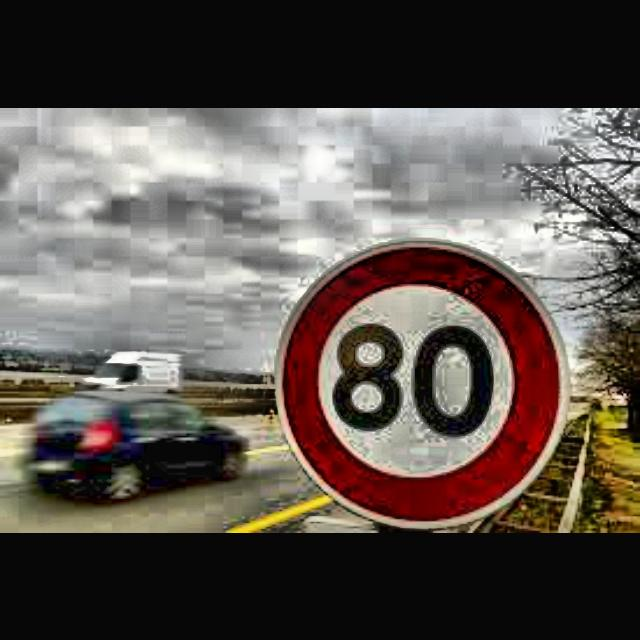speed_80: (280, 245, 562, 521)
